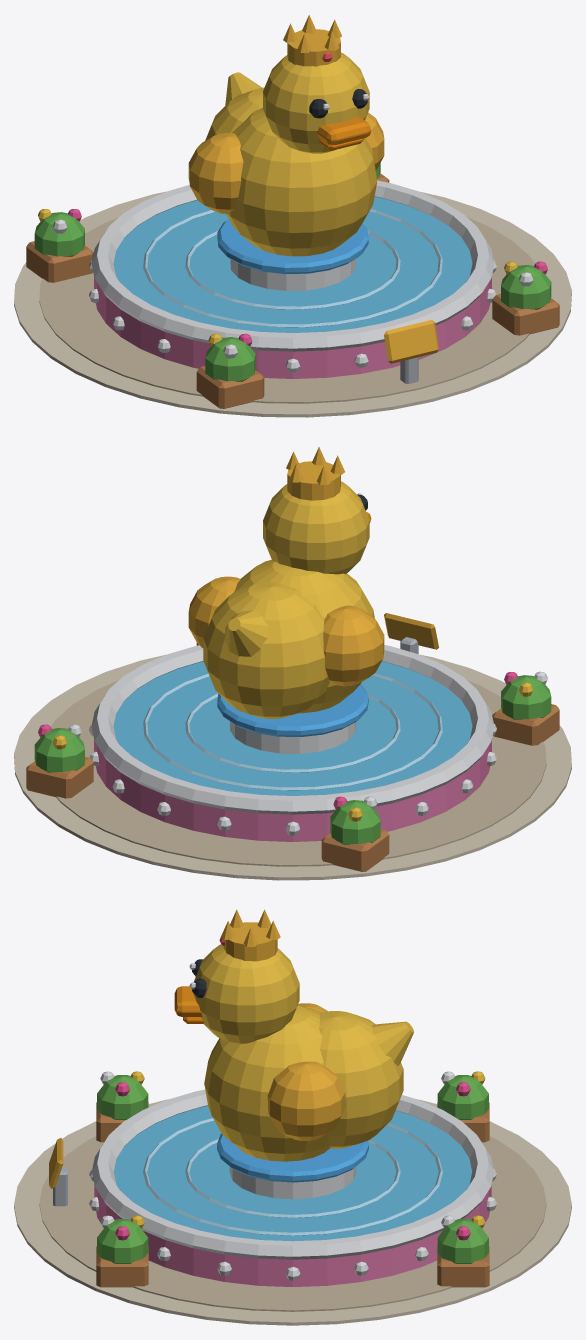
Rendered from landmark.glb.
3 views of the same model, one above another, from view 1: azimuth 30°, elevation 25°; view 2: azimuth 150°, elevation 25°; view 3: azimuth 270°, elevation 25° (orthographic).
Visible parts, largest first — view 1: landmark_base, landmark_duck; view 2: landmark_base, landmark_duck; view 3: landmark_base, landmark_duck.
Boxes of the visible parts, x1,y1,x2,y2 form: landmark_base: (14, 163, 571, 417); landmark_duck: (188, 15, 384, 256); landmark_base: (14, 613, 571, 880); landmark_duck: (188, 447, 384, 718); landmark_base: (14, 1071, 571, 1325); landmark_duck: (174, 909, 413, 1161).
Size of the model in its own units: 6.6 by 3.79 by 6.6.
